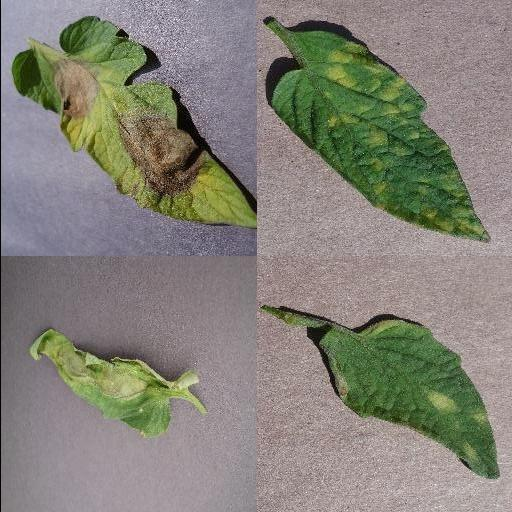Late Blight: (12, 16, 256, 230), (27, 329, 171, 439)
Leaf Mold: (270, 32, 490, 241), (319, 318, 499, 479)
